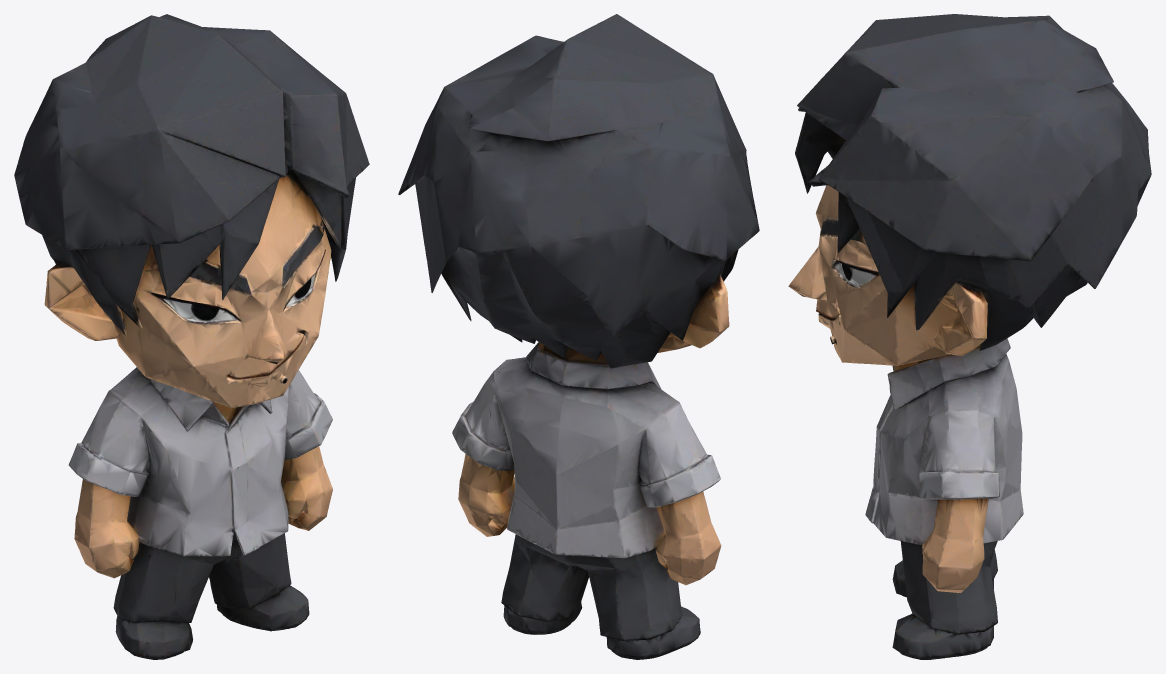
The model's file is noobli-profile.glb.
3 renders of one model, left to right at view 1: azimuth 30°, elevation 25°; view 2: azimuth 150°, elevation 25°; view 3: azimuth 270°, elevation 25°, orthographic. The views are drawn at different scales.
Parts seen in each view (by area): view 1: Mesh_0; view 2: Mesh_0; view 3: Mesh_0.
Part boxes in pixels (x1,y1,x2,y2): Mesh_0: [14, 14, 369, 659]; Mesh_0: [398, 14, 759, 659]; Mesh_0: [788, 14, 1151, 659].
Bounding box in the file's own units: 0.6314 × 1.14 × 0.6259.
Materials: 1 (1 with a texture image).
